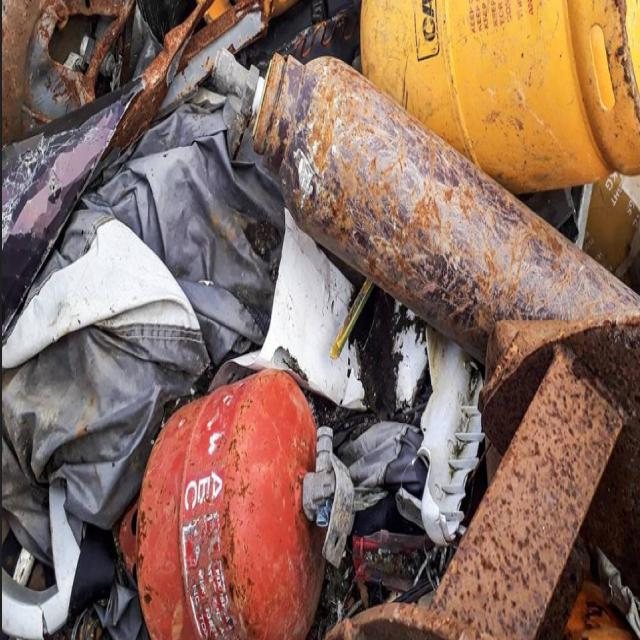cylinder: (211, 47, 639, 364), (136, 368, 355, 639)
